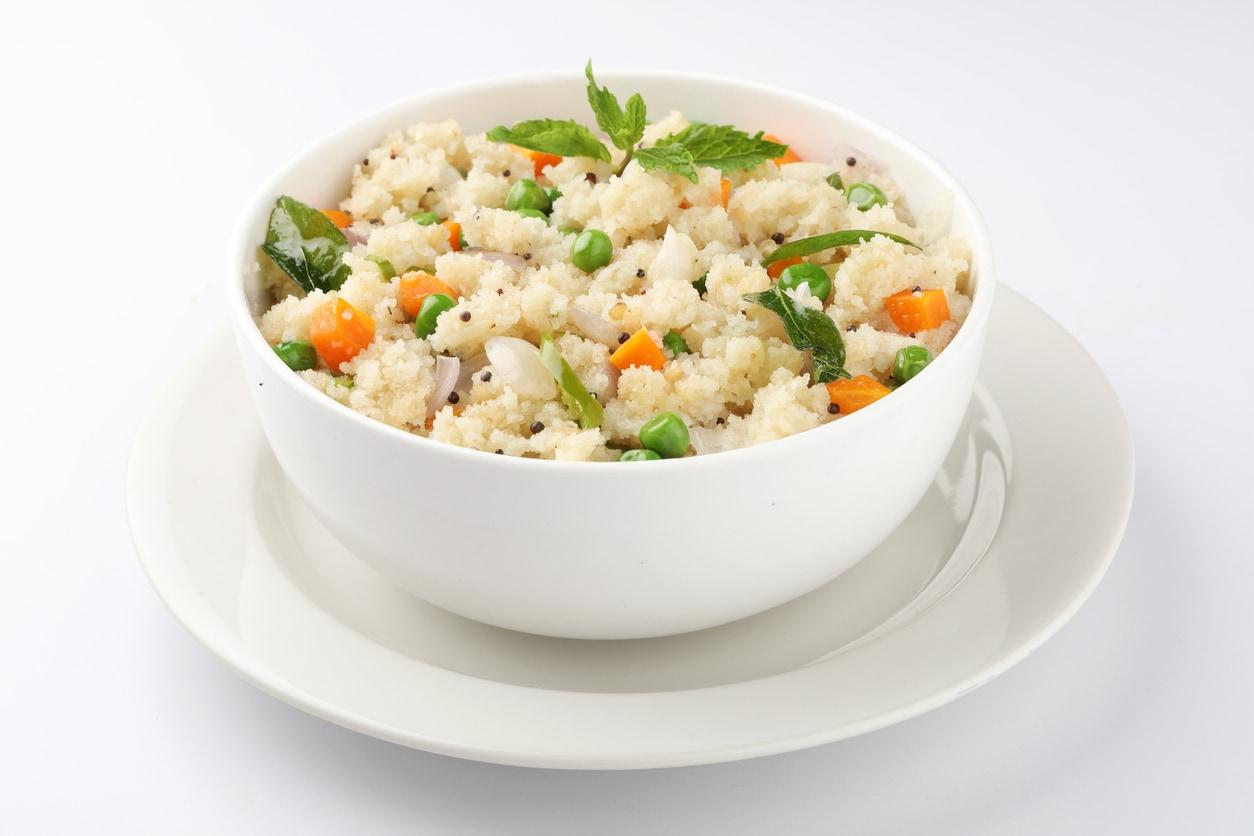upma: (243, 93, 989, 497)
